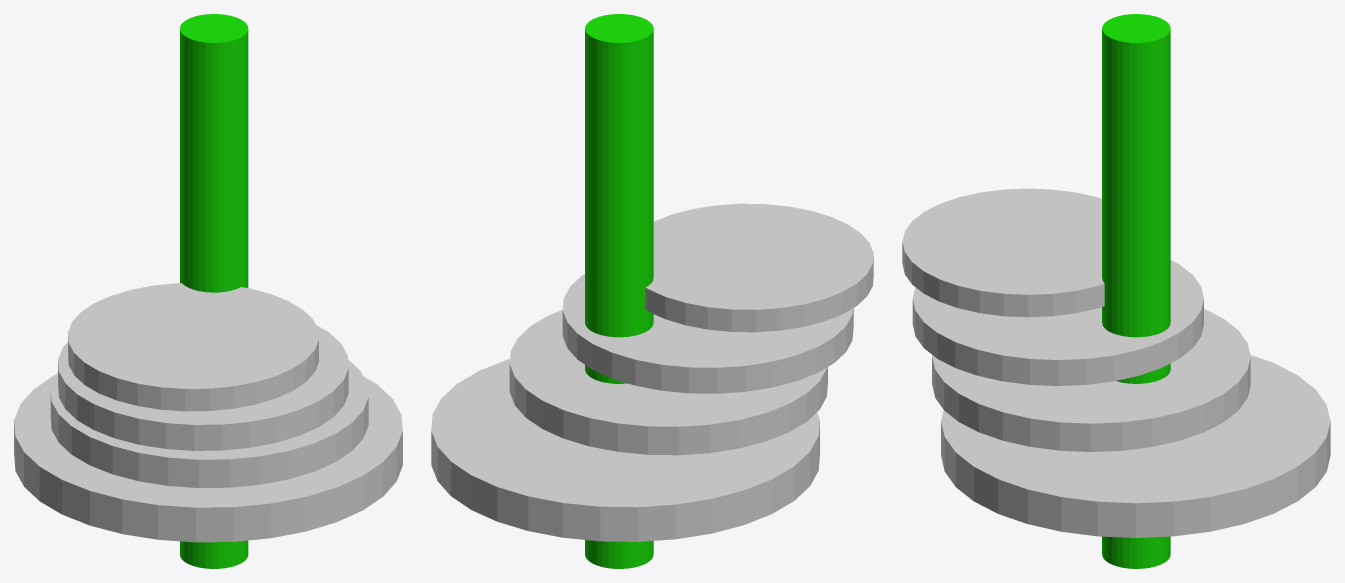
File: sirrealistic.glb
The picture shows the model from 3 angles, left to right: view 1: azimuth 30°, elevation 25°; view 2: azimuth 150°, elevation 25°; view 3: azimuth 270°, elevation 25°; orthographic projection.
Visible parts, largest first — view 1: Циліндр.004, Циліндр.003, Циліндр, Циліндр.002, Циліндр.001; view 2: Циліндр.003, Циліндр.004, Циліндр, Циліндр.001, Циліндр.002; view 3: Циліндр.003, Циліндр, Циліндр.004, Циліндр.001, Циліндр.002.
Boxes of the visible parts, x1=… form: Циліндр.004: x1=68, y1=283, x2=318, y2=411; Циліндр.003: x1=14, y1=374, x2=402, y2=542; Циліндр: x1=180, y1=14, x2=248, y2=568; Циліндр.002: x1=58, y1=325, x2=348, y2=450; Циліндр.001: x1=50, y1=359, x2=368, y2=488; Циліндр.003: x1=431, y1=359, x2=819, y2=541; Циліндр.004: x1=645, y1=203, x2=873, y2=332; Циліндр: x1=585, y1=14, x2=653, y2=568; Циліндр.001: x1=509, y1=310, x2=827, y2=455; Циліндр.002: x1=562, y1=274, x2=853, y2=393; Циліндр.003: x1=941, y1=355, x2=1330, y2=537; Циліндр: x1=1102, y1=14, x2=1170, y2=568; Циліндр.004: x1=902, y1=188, x2=1104, y2=317; Циліндр.001: x1=932, y1=309, x2=1250, y2=451; Циліндр.002: x1=912, y1=260, x2=1203, y2=385.
Size of the model in its own units: 11.66 by 16.92 by 12.48.
